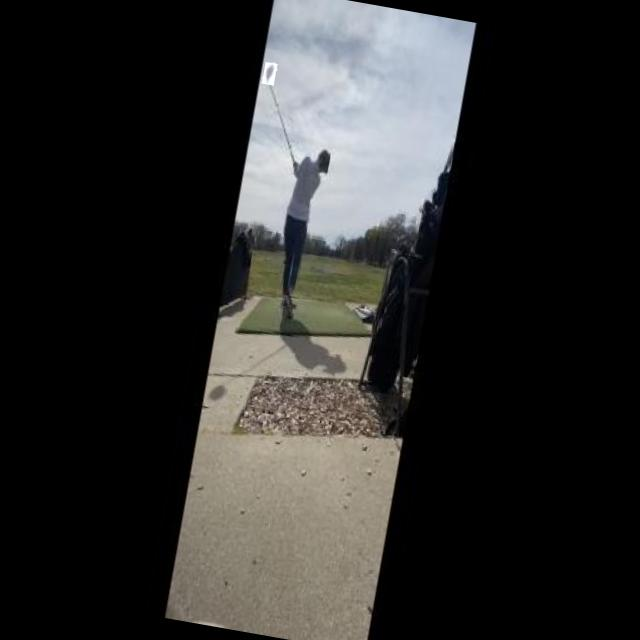club head: (261, 61, 277, 85)
